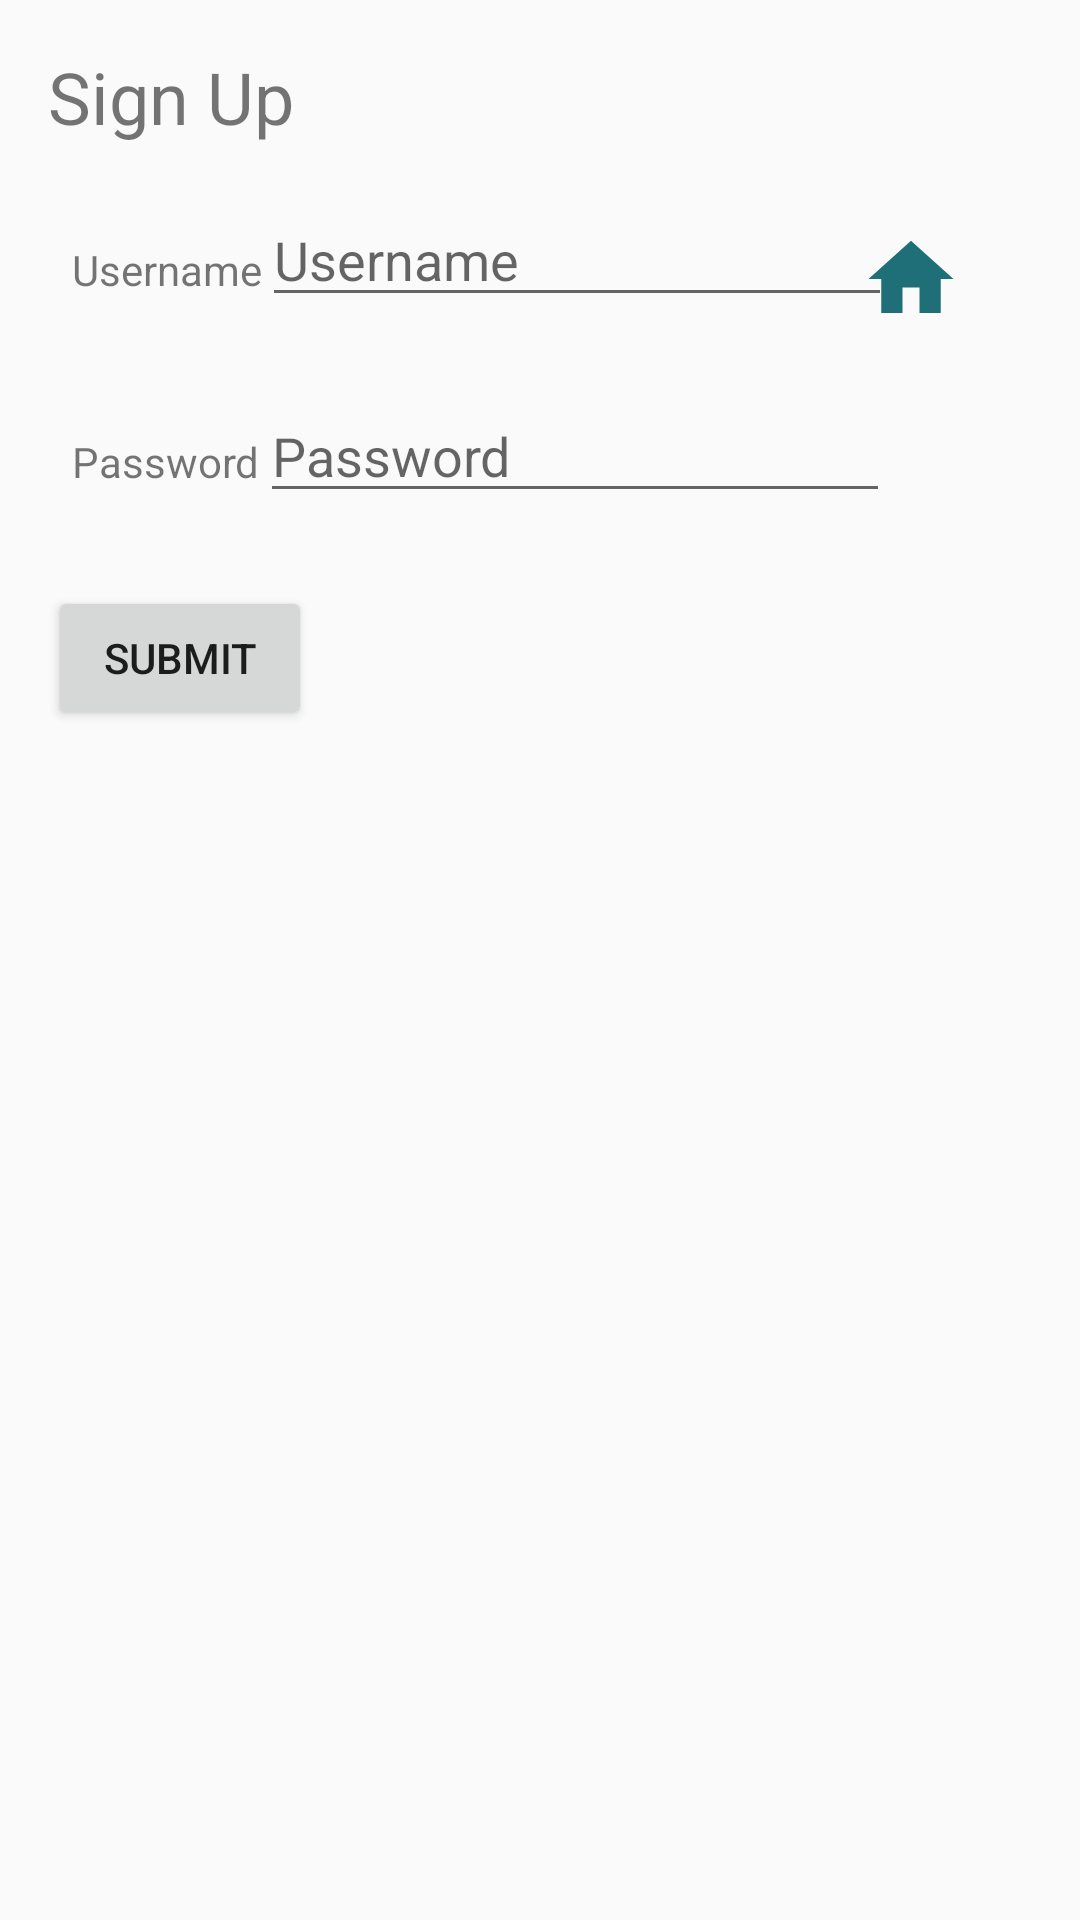

Icons on this 1080 x 1920 Android screen, each with its box as (x1, y1, x2, y2):
home: (869, 241, 953, 313)
